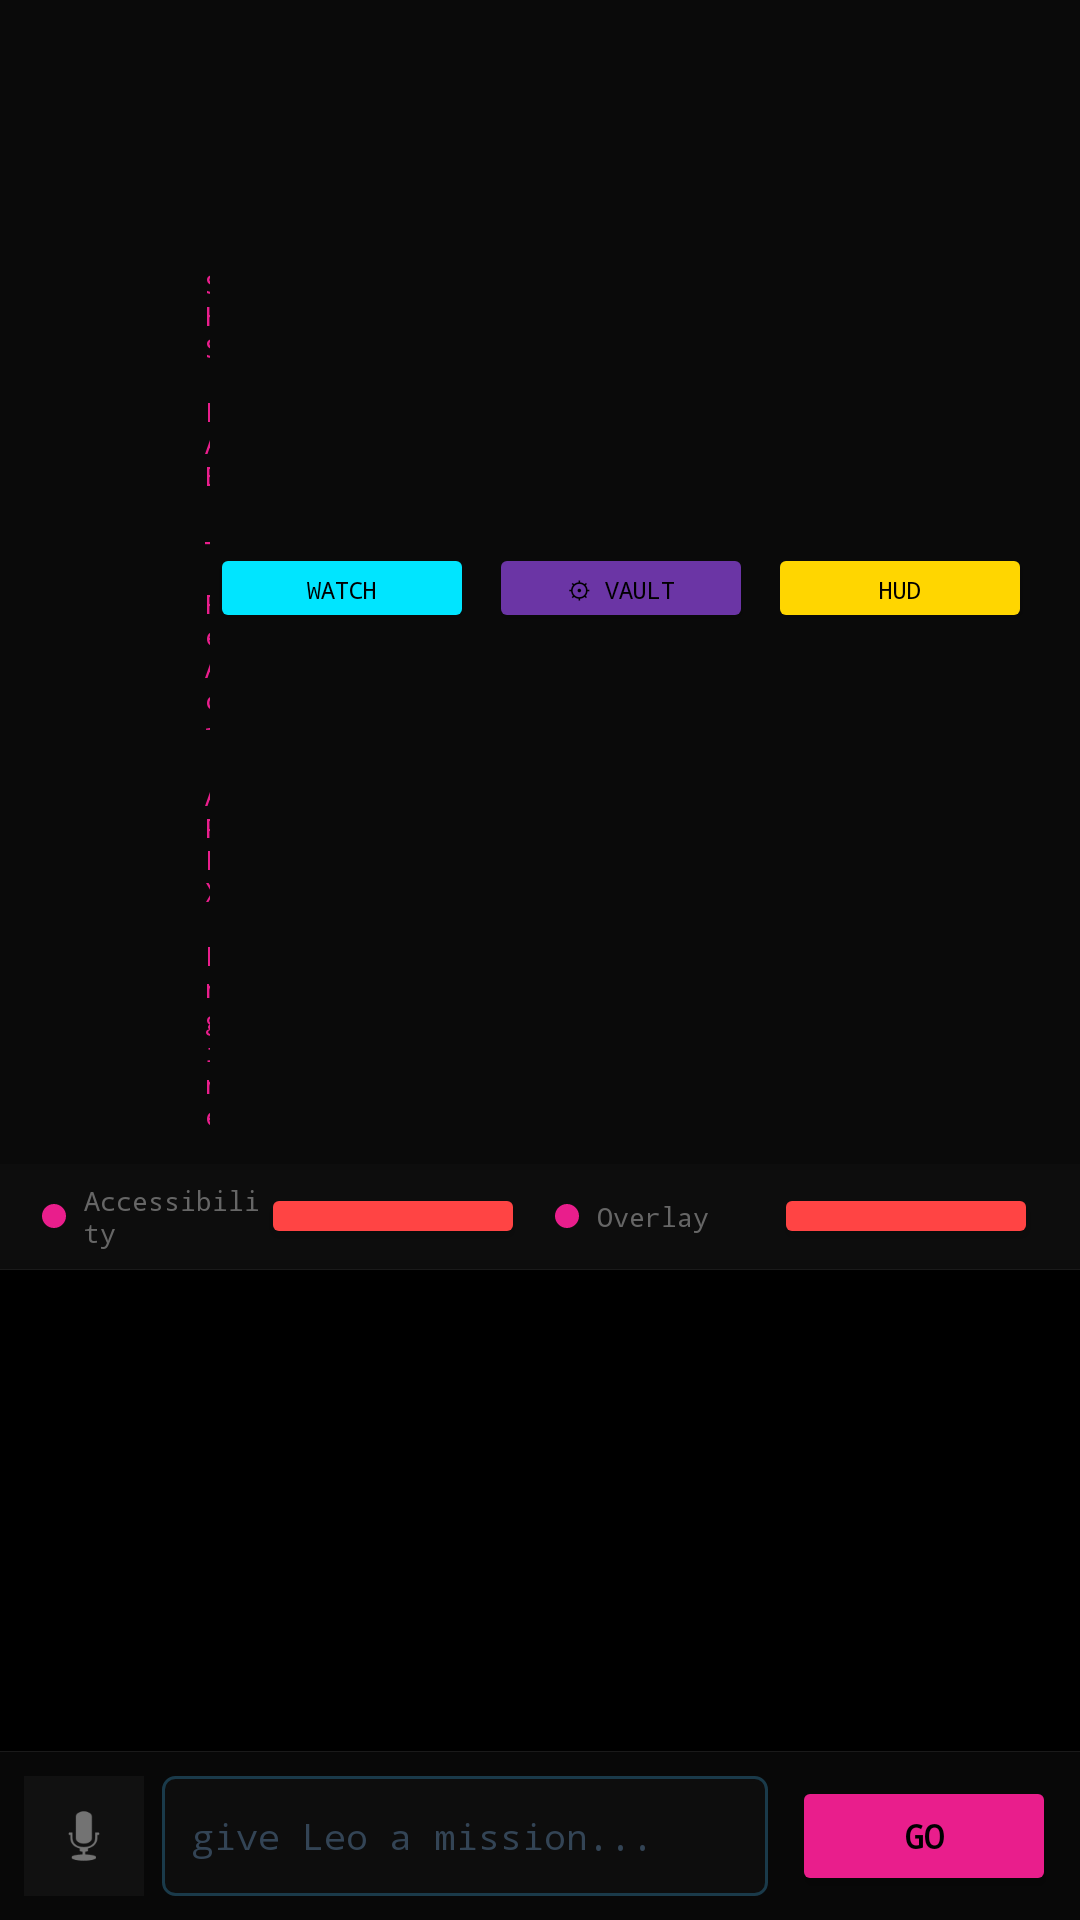

Named icons in this screenshot (1080px×1920px) and their bounding boxes, (x1, y1, x2, y2):
Voice input: (68, 1811, 100, 1861)
